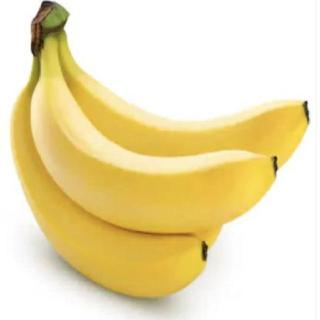banana: (9, 89, 209, 298), (28, 80, 280, 236), (64, 71, 310, 191)
